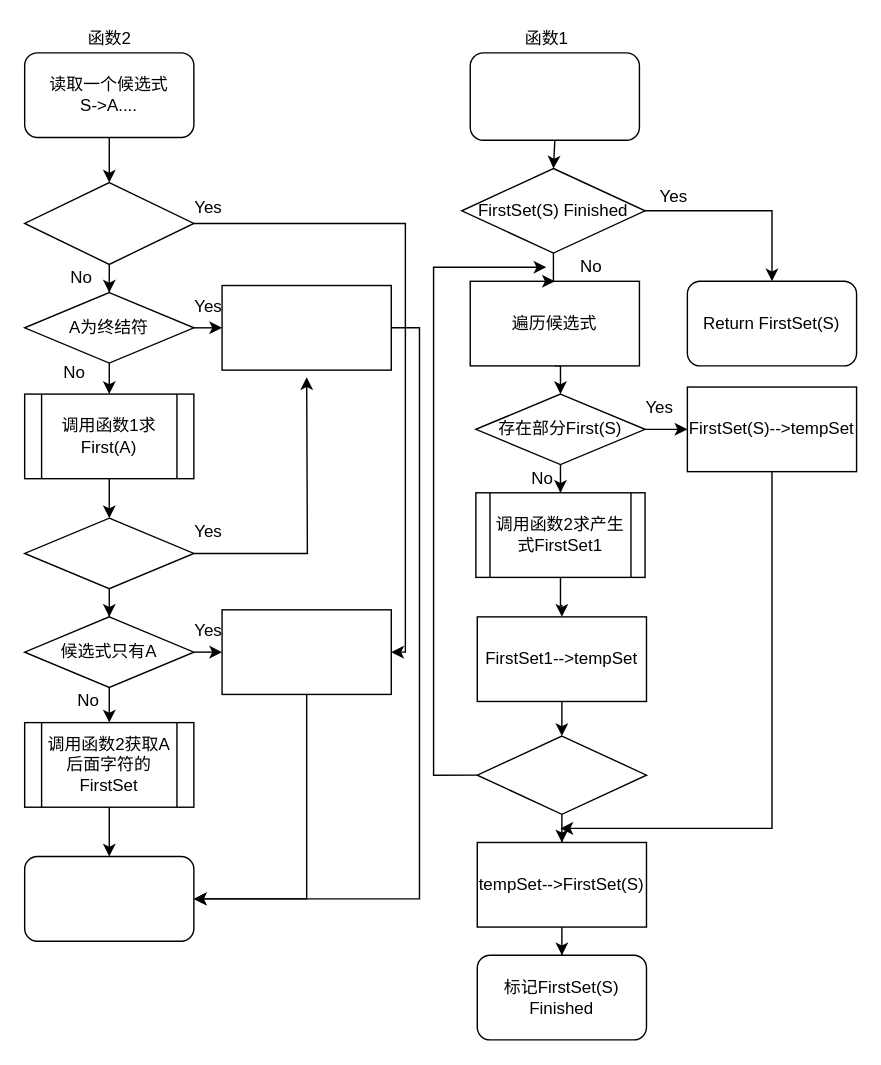
The diagram is 881 pixels wide and 1065 high, and some of its shapes have lost their labels. Here are the shapes that lost their labels. From the top down, the box of each, then its label:
(469, 51, 639, 140): 读取一个非终结符S及其候选式
(23, 181, 194, 264): 首字符A为空
(221, 284, 391, 370): A加入候选式FirstSet
(23, 517, 194, 589): First(A)不含空
(221, 608, 391, 694): 空加入候选式FirstSet
(476, 735, 646, 814): 遍历完所有候选式
(23, 855, 194, 941): 返回候选式FirstSet
